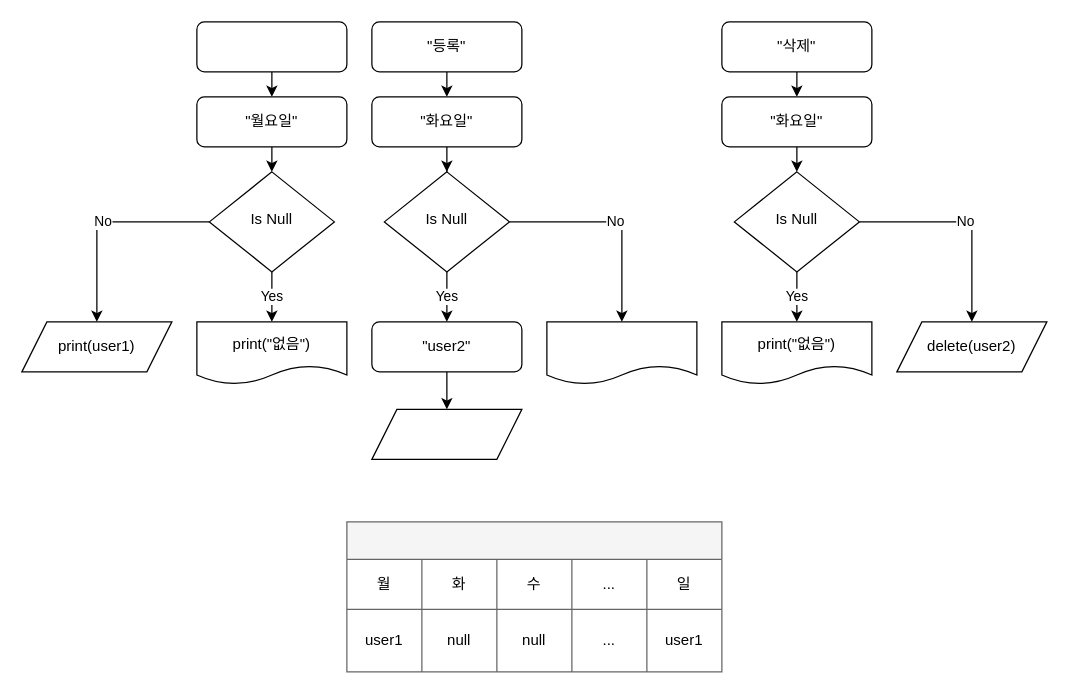
Some shapes in this 1069 by 694 pixel diagram are drawn without their labels. The shapes that lost their labels are listed below. From the top down, each one's box as (x1, y1, x2, y2) in pixels, then its label:
(196, 21, 347, 72): "조회"
(546, 321, 697, 384): print("이미 존재")
(371, 408, 522, 459): insert(user2)
(346, 521, 722, 672): 이번 주 담당자
